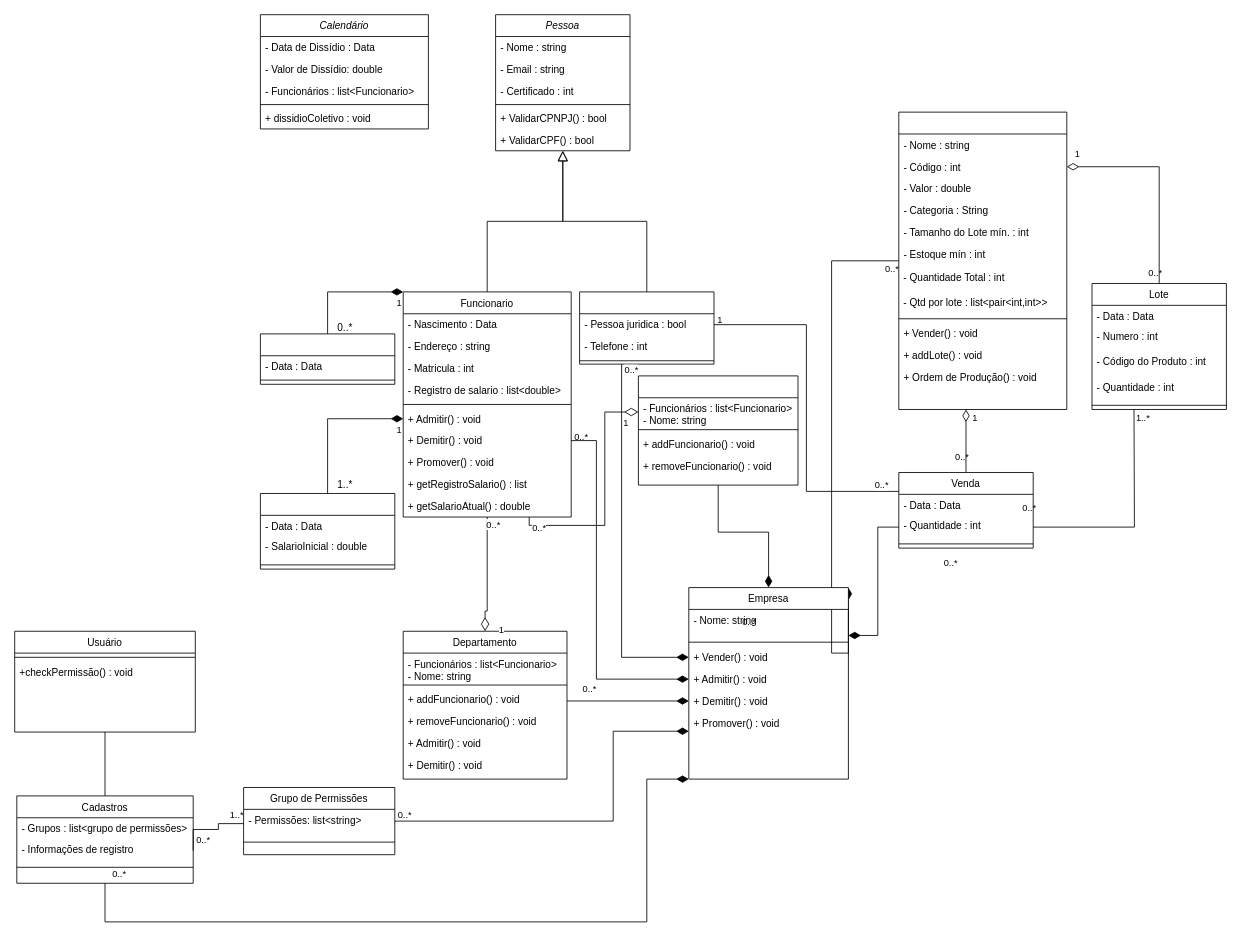
Some shapes in this 1242 by 948 pixel diagram are drawn without their labels. Here are the shapes that lost their labels. From the top down, the box of each, then its label:
(898, 111, 1067, 410): Produto
(579, 291, 714, 364): Cliente
(260, 333, 395, 384): Demissão
(638, 375, 798, 485): Cargo
(260, 493, 395, 569): Admissão
